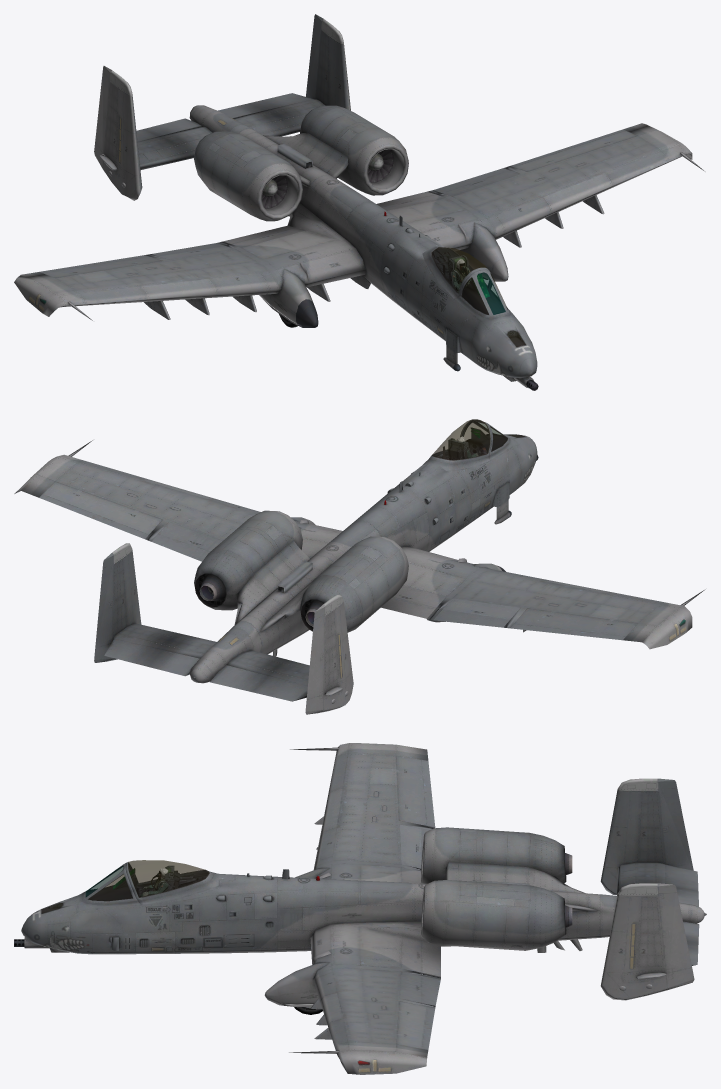
The model's file is A-10_Thunderbolt_II.dat.obj.
The picture shows the model from 3 angles, top to bottom: view 1: azimuth 30°, elevation 25°; view 2: azimuth 150°, elevation 25°; view 3: azimuth 270°, elevation 25°; orthographic projection.
Visible parts, largest first — view 1: A-10_LOD0_default.001, A-10_AileronL01_default, A-10_Glass01_default, A-10_Glass_default.001, A-10_AileronR01_default, A-10_ElevatorL01_default, A-10_RudderR01_default, A-10_Canopy01_default, A-10_BrakeL01_default, A-10_RudderL01_default, A-10_ElevatorR01_default, A-10_BrakeR01_default; view 2: A-10_LOD0_default.001, A-10_AileronL01_default, A-10_AileronR01_default, A-10_ElevatorR01_default, A-10_ElevatorL01_default, A-10_Glass01_default, A-10_RudderR01_default, A-10_RudderL01_default, A-10_BrakeL01_default, A-10_FlapR01_default, A-10_Canopy01_default, A-10_FlapL01_default (+6 smaller); view 3: A-10_LOD0_default.001, A-10_RudderL01_default, A-10_AileronR01_default, A-10_Glass01_default, A-10_RudderR01_default, A-10_AileronL01_default, A-10_Canopy01_default, A-10_BrakeR01_default, A-10_ElevatorR01_default, A-10_Glass_default.001, A-10_FlapR01_default, A-10_FlapL03_default (+3 smaller).
Boxes of the visible parts, box(x1,y1,x2,y2) form: A-10_LOD0_default.001: box(14, 18, 705, 390); A-10_AileronL01_default: box(510, 129, 637, 171); A-10_Glass01_default: box(431, 247, 488, 293); A-10_Glass_default.001: box(462, 272, 525, 346); A-10_AileronR01_default: box(39, 255, 162, 277); A-10_ElevatorL01_default: box(218, 93, 313, 117); A-10_RudderR01_default: box(94, 66, 111, 168); A-10_Canopy01_default: box(421, 241, 490, 298); A-10_BrakeL01_default: box(528, 136, 643, 176); A-10_RudderL01_default: box(306, 14, 323, 99); A-10_ElevatorR01_default: box(136, 118, 201, 141); A-10_BrakeR01_default: box(55, 261, 170, 281); A-10_LOD0_default.001: box(14, 421, 705, 712); A-10_AileronL01_default: box(39, 481, 162, 538); A-10_AileronR01_default: box(510, 608, 637, 640); A-10_ElevatorR01_default: box(210, 665, 307, 701); A-10_ElevatorL01_default: box(104, 639, 199, 676); A-10_Glass01_default: box(431, 419, 490, 460); A-10_RudderR01_default: box(305, 604, 325, 714); A-10_RudderL01_default: box(94, 553, 113, 662); A-10_BrakeL01_default: box(55, 476, 170, 519); A-10_FlapR01_default: box(442, 598, 520, 619); A-10_Canopy01_default: box(421, 419, 491, 472); A-10_FlapL01_default: box(158, 522, 222, 551); A-10_LOD0_default.001: box(14, 743, 706, 1074); A-10_RudderL01_default: box(657, 883, 694, 989); A-10_AileronR01_default: box(396, 756, 435, 827); A-10_Glass01_default: box(128, 860, 209, 897); A-10_RudderR01_default: box(657, 778, 693, 870); A-10_AileronL01_default: box(396, 1001, 435, 1049); A-10_Canopy01_default: box(125, 862, 234, 904); A-10_BrakeR01_default: box(383, 755, 399, 820); A-10_ElevatorR01_default: box(665, 864, 698, 906); A-10_Glass_default.001: box(42, 866, 132, 913); A-10_FlapR01_default: box(399, 824, 421, 868); A-10_FlapL03_default: box(401, 935, 421, 972).
Bounding box in the file's own units: 17.49 × 3.44 × 16.07.
